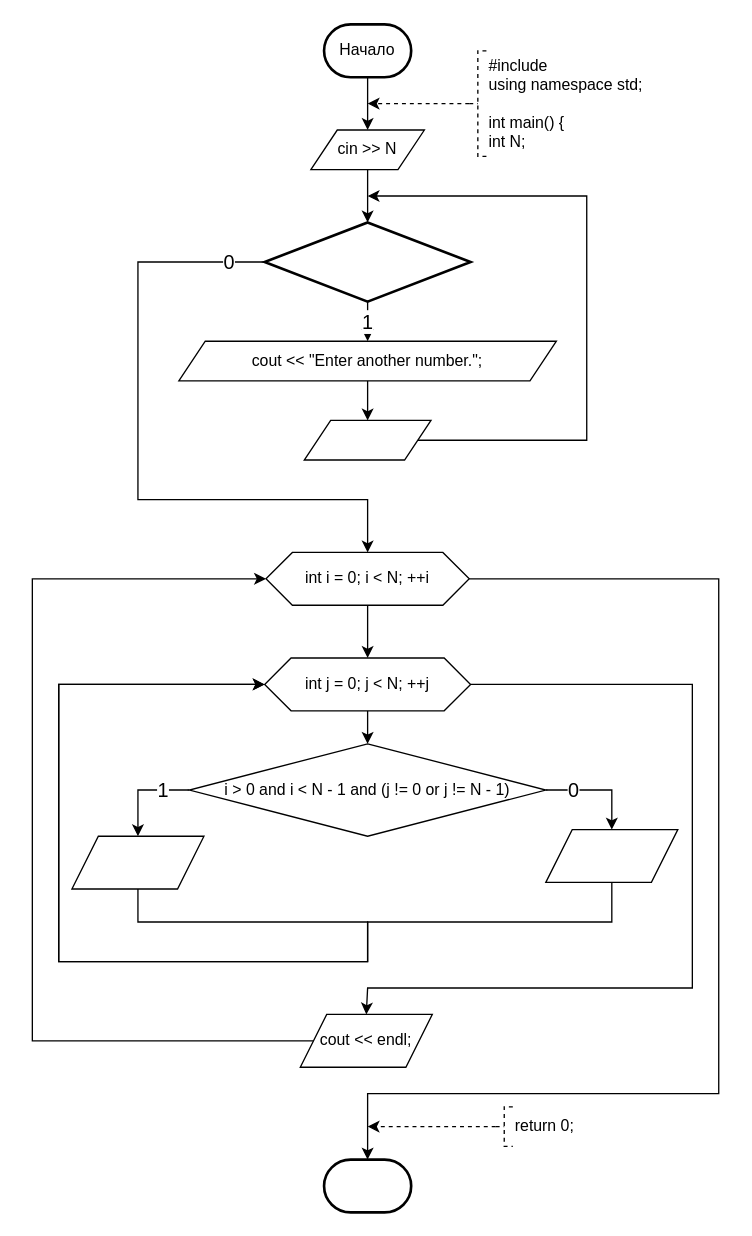
The diagram is 752 pixels wide and 1236 high, and some of its shapes have lost their labels. The shapes that lost their labels are listed below. From the top down, each one's box as (x1, y1, x2, y2) in pixels, then its label:
(263, 220, 471, 302): N < 2
(303, 419, 431, 460): cin >> N;
(71, 835, 204, 889): cout << " ";
(544, 828, 678, 882): cout << "* ";
(322, 1158, 412, 1213): Конец
